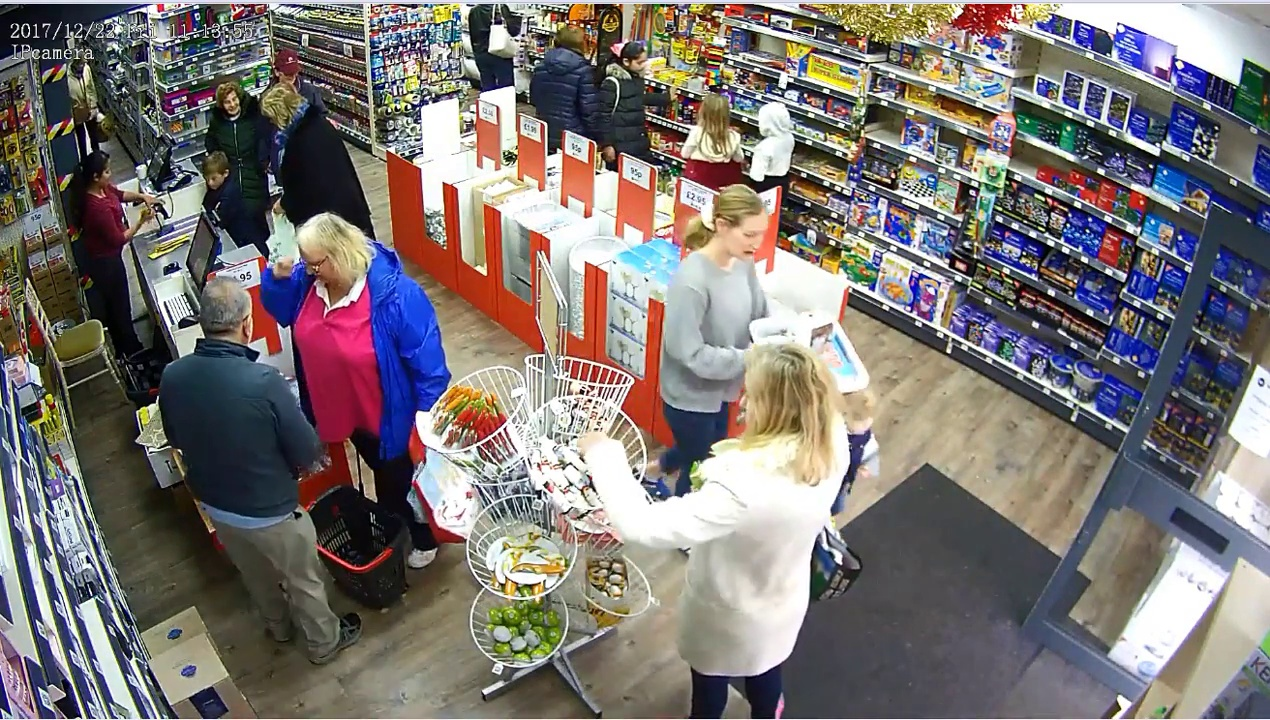face: (298, 232, 333, 288), (725, 213, 762, 260), (218, 82, 243, 116), (199, 164, 224, 190)
